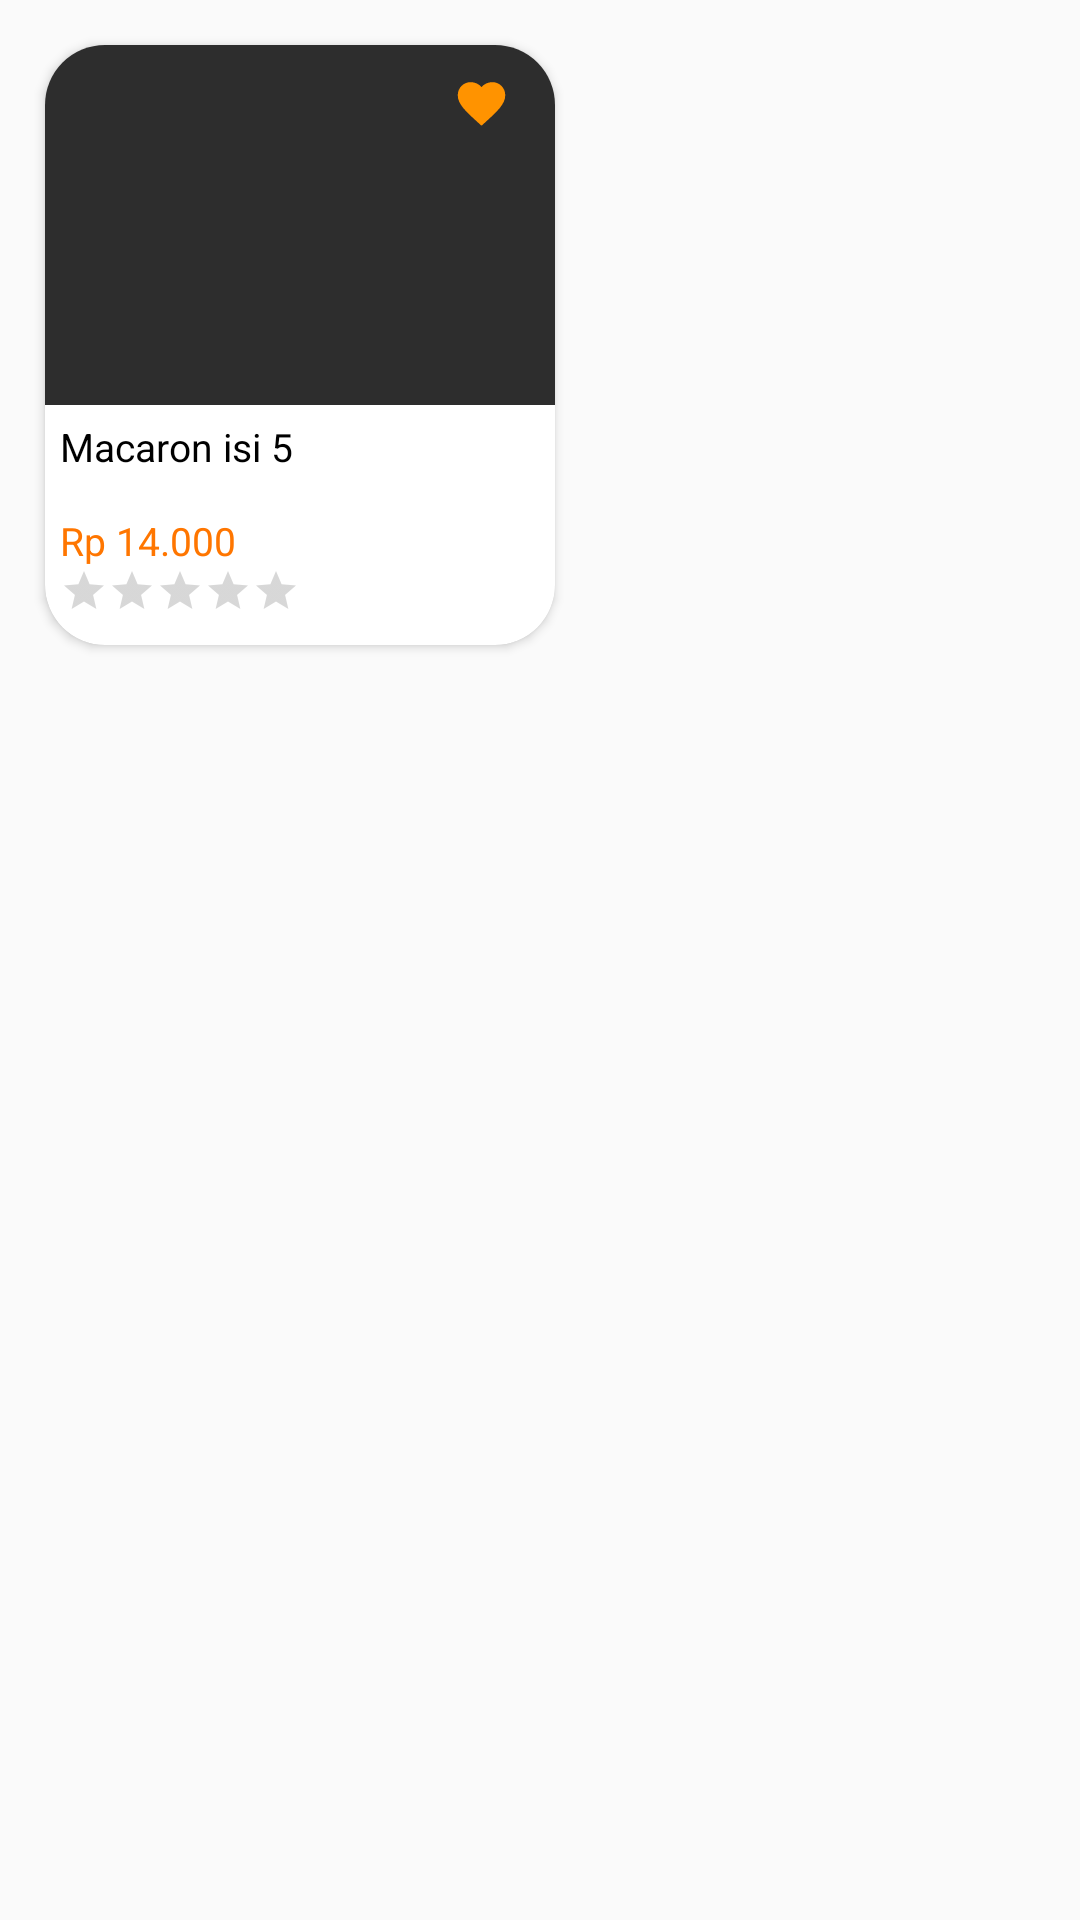

Icon bounding boxes for this 1080 × 1920 phone screenshot, format (x1, y1, x2, y2):
favorite: (457, 82, 506, 126)
